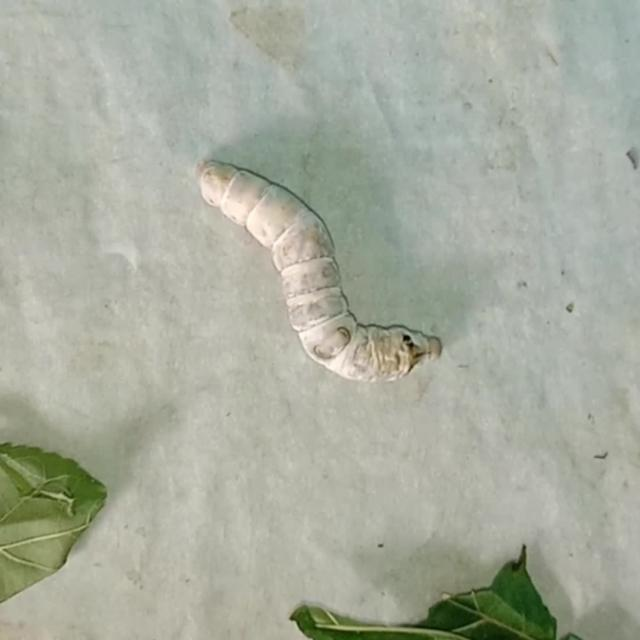Grasserie: (187, 128, 459, 399)
